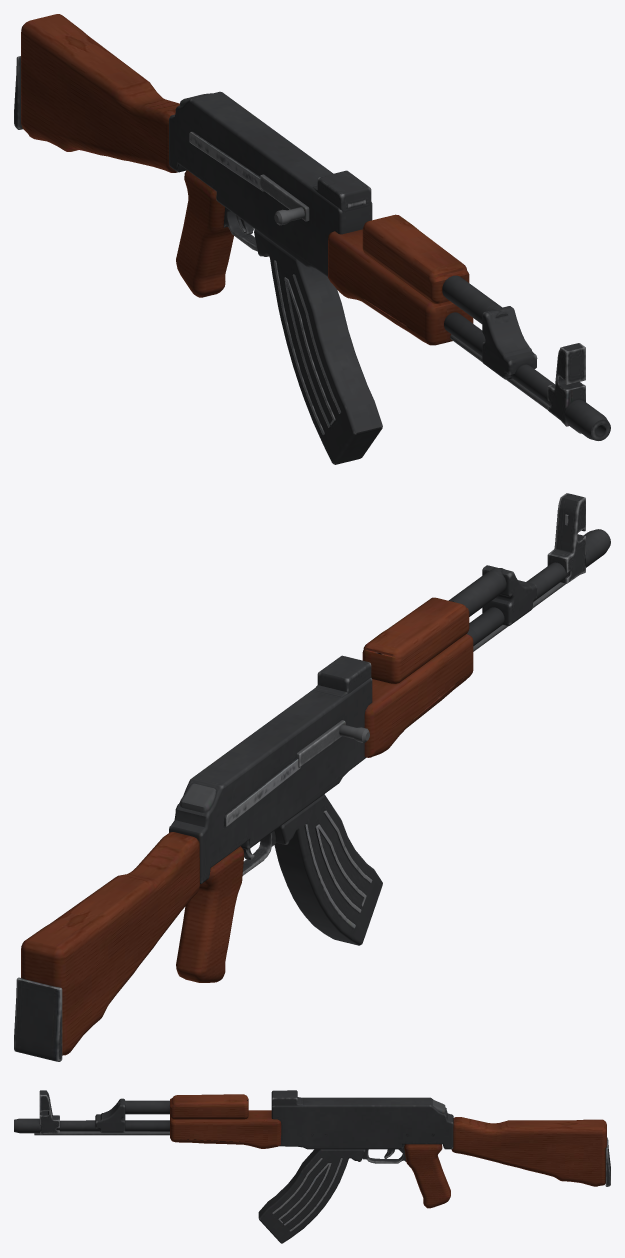
File: ar_akm.glb
The picture shows the model from 3 angles, top to bottom: view 1: azimuth 30°, elevation 25°; view 2: azimuth 150°, elevation 25°; view 3: azimuth 270°, elevation 25°; orthographic projection. The views are drawn at different scales.
Visible parts, largest first — view 1: body, mag_mesh, bolt_mesh; view 2: body, mag_mesh, bolt_mesh; view 3: body, mag_mesh.
Part boxes in pixels (<box>): body: <box>14,14,610,440</box>; mag_mesh: <box>254,229,382,464</box>; bolt_mesh: <box>260,174,309,225</box>; body: <box>14,493,610,1061</box>; mag_mesh: <box>274,794,382,945</box>; bolt_mesh: <box>296,720,369,767</box>; body: <box>14,1090,610,1208</box>; mag_mesh: <box>258,1149,365,1243</box>.
Bounding box in the file's own units: 0.0637 × 0.2401 × 0.88.
1 material, 1 textured.
